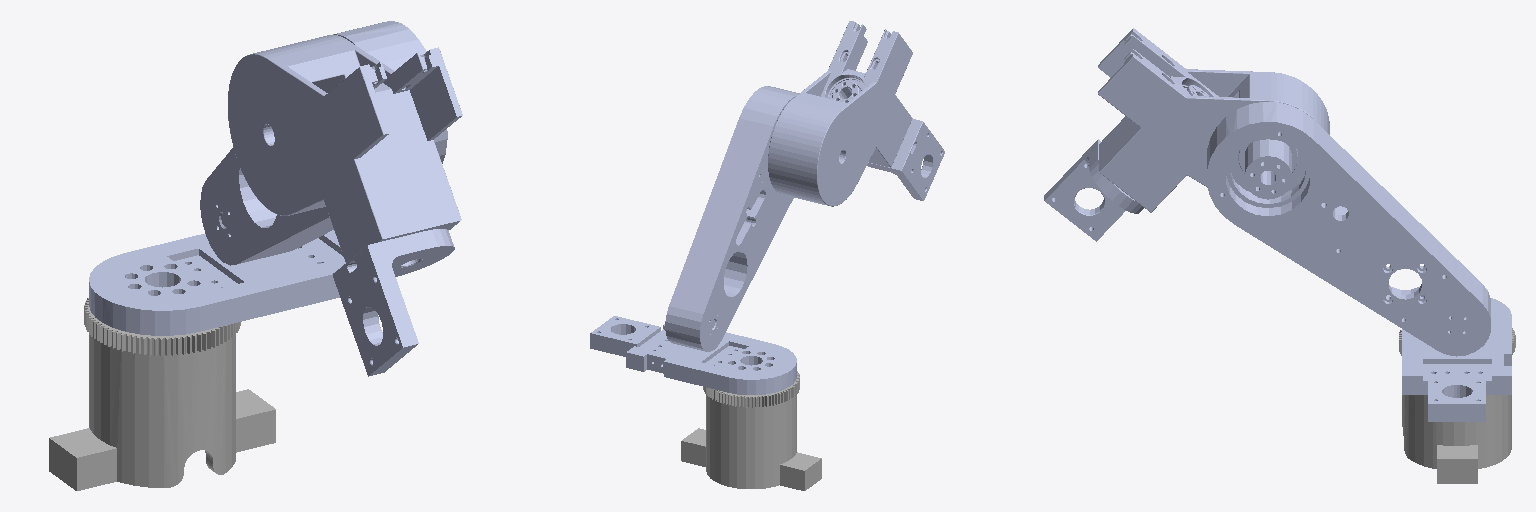
robot.urdf — Base_shoulder_forearm_comined:
<?xml version="1.0" encoding="utf-8"?>
<!-- This URDF was automatically created by SolidWorks to URDF Exporter! Originally created by [author] ([email redacted]) 
     Commit Version: 1.6.0-4-g7f85cfe  Build Version: 1.6.7995.38578
     For more information, please see http://wiki.ros.org/sw_urdf_exporter -->
<robot
  name="Base_shoulder_forearm_comined">
  <link
    name="base_link">
    <inertial>
      <origin
        xyz="0.0624999992862357 0.0154335077592649 0.0423729744092669"
        rpy="0 0 0" />
      <mass
        value="0.225786464020401" />
      <inertia
        ixx="0.000244145774214811"
        ixy="-3.31255990336094E-12"
        ixz="-3.40844665107015E-12"
        iyy="0.000319247454268192"
        iyz="3.0184574570031E-06"
        izz="0.00032348461917382" />
    </inertial>
    <visual>
      <origin
        xyz="0 0 0"
        rpy="0 0 0" />
      <geometry>
        <mesh
          filename="package://robotarm_ros2/robotarm_description/meshes/base_link.STL" />
      </geometry>
      <material
        name="">
        <color
          rgba="0.752941176470588 0.752941176470588 0.752941176470588 1" />
      </material>
    </visual>
    <collision>
      <origin
        xyz="0 0 0"
        rpy="0 0 0" />
      <geometry>
        <mesh
          filename="package://robotarm_ros2/robotarm_description/meshes/base_link_colision.STL" />
      </geometry>
    </collision>
  </link>
  <link
    name="Link_1">
    <inertial>
      <origin
        xyz="0.04994 -0.00042087 -0.0075773"
        rpy="0 0 0" />
      <mass
        value="0.15704" />
      <inertia
        ixx="7.9296E-05"
        ixy="1.6685E-06"
        ixz="2.3634E-06"
        iyy="0.00037249"
        iyz="8.587E-09"
        izz="0.00044636" />
    </inertial>
    <visual>
      <origin
        xyz="0 0 0"
        rpy="0 0 0" />
      <geometry>
        <mesh
          filename="package://robotarm_ros2/robotarm_description/meshes/Link_1.STL" />
      </geometry>
      <material
        name="">
        <color
          rgba="0.79216 0.81961 0.93333 1" />
      </material>
    </visual>
    <collision>
      <origin
        xyz="0 0 0"
        rpy="0 0 0" />
      <geometry>
        <mesh
          filename="package://robotarm_ros2/robotarm_description/meshes/Link_1_colision.STL" />
      </geometry>
    </collision>
  </link>
  <joint
    name="Joint_1"
    type="revolute">
    <origin
      xyz="0.0625 0.015 0.106"
      rpy="0 0 0" />
    <parent
      link="base_link" />
    <child
      link="Link_1" />
    <axis
      xyz="0 0 1" />
    <limit
      lower="-628320"
      upper="628320"
      effort="10"
      velocity="20" />
  </joint>
  <link
    name="Link_2">
    <inertial>
      <origin
        xyz="-0.048126 -0.0015216 0.10252"
        rpy="0 0 0" />
      <mass
        value="0.42777" />
      <inertia
        ixx="0.0021672"
        ixy="-1.5265E-06"
        ixz="5.2003E-06"
        iyy="0.0019837"
        iyz="-1.9318E-06"
        izz="0.00027157" />
    </inertial>
    <visual>
      <origin
        xyz="0 0 0"
        rpy="0 0 0" />
      <geometry>
        <mesh
          filename="package://robotarm_ros2/robotarm_description/meshes/Link_2.STL" />
      </geometry>
      <material
        name="">
        <color
          rgba="0.79216 0.81961 0.93333 1" />
      </material>
    </visual>
    <collision>
      <origin
        xyz="0 0 0"
        rpy="0 0 0" />
      <geometry>
        <mesh
          filename="package://robotarm_ros2/robotarm_description/meshes/Link_2_colision.STL" />
      </geometry>
    </collision>
  </link>
  <joint
    name="Joint_2"
    type="revolute">
    <origin
      xyz="0.104 0.00073132 0.026933"
      rpy="0 0 0" />
    <parent
      link="Link_1" />
    <child
      link="Link_2" />
    <axis
      xyz="1 0 0" />
    <limit
      lower="-296710"
      upper="-296710"
      effort="10"
      velocity="20" />
  </joint>
  <link
    name="Link_3">
    <inertial>
      <origin
        xyz="-0.058541 -0.016112 0.022544"
        rpy="0 0 0" />
      <mass
        value="0.52301" />
      <inertia
        ixx="0.0012596"
        ixy="-2.0717E-05"
        ixz="2.8987E-05"
        iyy="0.00092528"
        iyz="0.00031334"
        izz="0.00068119" />
    </inertial>
    <visual>
      <origin
        xyz="0 0 0"
        rpy="0 0 0" />
      <geometry>
        <mesh
          filename="package://robotarm_ros2/robotarm_description/meshes/Link_3.STL" />
      </geometry>
      <material
        name="">
        <color
          rgba="0.79216 0.81961 0.93333 1" />
      </material>
    </visual>
    <collision>
      <origin
        xyz="0 0 0"
        rpy="0 0 0" />
      <geometry>
        <mesh
          filename="package://robotarm_ros2/robotarm_description/meshes/Link_3_colision.STL" />
      </geometry>
    </collision>
  </link>
  <joint
    name="Joint_3"
    type="revolute">
    <origin
      xyz="-0.031 -0.00074265 0.1818"
      rpy="0 0 0" />
    <parent
      link="Link_2" />
    <child
      link="Link_3" />
    <axis
      xyz="-1 0 0" />
    <limit
      lower="0"
      upper="-296710"
      effort="10"
      velocity="20" />
  </joint>
  <link
    name="Link_4">
    <inertial>
      <origin
        xyz="-0.01028 -0.081085 -1.1126E-05"
        rpy="0 0 0" />
      <mass
        value="0.078146" />
      <inertia
        ixx="0.00011752"
        ixy="-2.795E-05"
        ixz="-1.7214E-08"
        iyy="3.2115E-05"
        iyz="-3.7752E-08"
        izz="0.00012609" />
    </inertial>
    <visual>
      <origin
        xyz="0 0 0"
        rpy="0 0 0" />
      <geometry>
        <mesh
          filename="package://robotarm_ros2/robotarm_description/meshes/Link_4.STL" />
      </geometry>
      <material
        name="">
        <color
          rgba="0.79216 0.81961 0.93333 1" />
      </material>
    </visual>
    <collision>
      <origin
        xyz="0 0 0"
        rpy="0 0 0" />
      <geometry>
        <mesh
          filename="package://robotarm_ros2/robotarm_description/meshes/Link_4_colision.STL" />
      </geometry>
    </collision>
  </link>
  <joint
    name="Joint_4"
    type="revolute">
    <origin
      xyz="-0.061 -0.003 0.06"
      rpy="0 0 0" />
    <parent
      link="Link_3" />
    <child
      link="Link_4" />
    <axis
      xyz="0 -1 0" />
    <limit
      lower="-6.2832"
      upper="6.2832"
      effort="10"
      velocity="20" />
  </joint>
</robot>

--- Render facts (derived) ---
3 views of the same robot in one strip: view 1: azimuth 30°, elevation 25°; view 2: azimuth 150°, elevation 25°; view 3: azimuth 270°, elevation 25° (orthographic).
Model Base_shoulder_forearm_comined with 5 links and 4 joints (4 revolute), rooted at base_link, posed joints at zero except 1 at the middle of their limits (Joint_2 = -296710).
Links seen in each view (by area): view 1: Link_3, base_link, Link_1, Link_2, Link_4; view 2: Link_3, Link_2, base_link, Link_1, Link_4; view 3: Link_2, Link_3, Link_1, base_link, Link_4.
Link boxes in pixels (x1,y1,x2,y2): Link_3: [228, 35, 462, 262]; base_link: [49, 298, 275, 490]; Link_1: [89, 230, 345, 335]; Link_2: [200, 21, 447, 265]; Link_4: [333, 229, 454, 376]; Link_3: [768, 21, 912, 206]; Link_2: [665, 86, 799, 351]; base_link: [681, 371, 821, 490]; Link_1: [590, 316, 796, 394]; Link_4: [832, 81, 944, 200]; Link_2: [1207, 102, 1490, 356]; Link_3: [1098, 28, 1329, 212]; Link_1: [1402, 298, 1511, 421]; base_link: [1399, 328, 1515, 483]; Link_4: [1044, 85, 1208, 241].
Size in the robot's own frame: 0.2135 by 0.3429 by 0.3316 metres.
Meshes: 5 distinct files referenced, 5 mesh visuals loaded (5 binary STL).